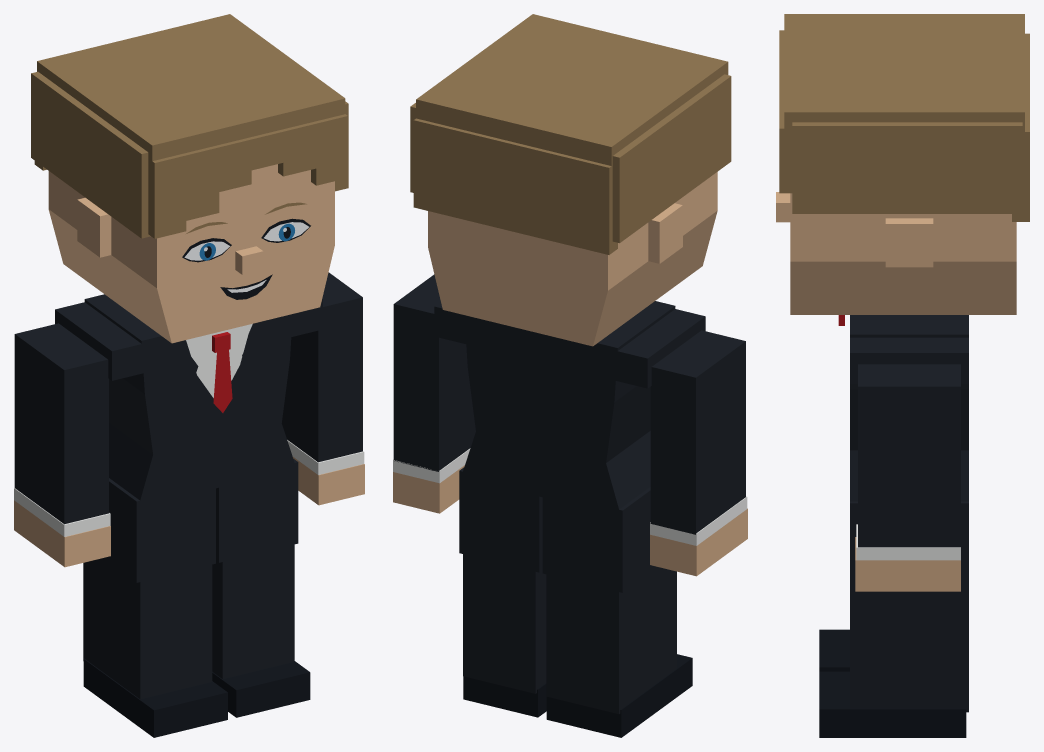
The model's file is female_base.glb.
3 views of the same model, side by side, from view 1: azimuth 30°, elevation 25°; view 2: azimuth 150°, elevation 25°; view 3: azimuth 270°, elevation 25° (orthographic). The views are drawn at different scales.
Visible parts, largest first — view 1: char_hair_visual, char_torso_visual, char_head_visual, char_leg_negx_visual, char_arm_negx_visual, char_leg_posx_visual, char_arm_posx_visual, char_hand_negx_visual, char_hand_posx_visual, char_eye_negx_visual, char_eye_posx_visual; view 2: char_hair_visual, char_torso_visual, char_head_visual, char_leg_negx_visual, char_arm_negx_visual, char_arm_posx_visual, char_leg_posx_visual, char_hand_negx_visual, char_hand_posx_visual; view 3: char_hair_visual, char_head_visual, char_arm_posx_visual, char_leg_posx_visual, char_torso_visual, char_hand_posx_visual, char_leg_negx_visual.
Part boxes in pixels (box(x1,y1,x2,y2)): char_hair_visual: box(31, 14, 348, 238); char_torso_visual: box(55, 294, 322, 582); char_head_visual: box(48, 164, 334, 343); char_leg_negx_visual: box(83, 558, 227, 737); char_arm_negx_visual: box(14, 323, 110, 536); char_leg_posx_visual: box(212, 540, 310, 717); char_arm_posx_visual: box(281, 272, 364, 474); char_hand_negx_visual: box(14, 500, 110, 567); char_hand_posx_visual: box(293, 457, 364, 505); char_eye_negx_visual: box(182, 238, 231, 262); char_eye_posx_visual: box(261, 218, 310, 242); char_hair_visual: box(410, 14, 731, 254); char_torso_visual: box(434, 301, 705, 592); char_head_visual: box(428, 172, 717, 346); char_leg_negx_visual: box(546, 567, 692, 737); char_arm_negx_visual: box(650, 330, 747, 545); char_arm_posx_visual: box(393, 274, 475, 483); char_leg_posx_visual: box(463, 551, 546, 717); char_hand_negx_visual: box(650, 508, 747, 576); char_hand_posx_visual: box(393, 465, 464, 513); char_hair_visual: box(779, 14, 1029, 221); char_head_visual: box(776, 192, 1016, 314); char_arm_posx_visual: box(856, 364, 960, 560); char_leg_posx_visual: box(819, 588, 968, 737); char_torso_visual: box(838, 315, 968, 588); char_hand_posx_visual: box(855, 537, 960, 591); char_leg_negx_visual: box(819, 629, 849, 671).
Size of the model in its own units: 0.91 by 1.77 by 0.6395.
